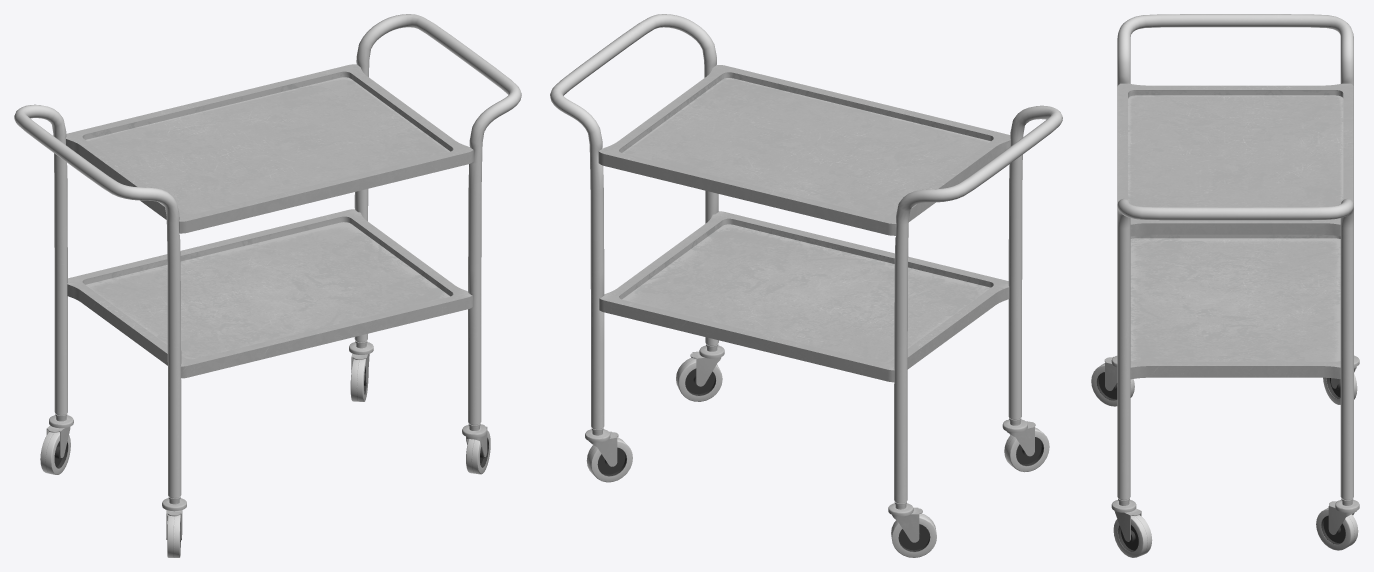
File: Old trolley.fbx
3 renders of one model, left to right at view 1: azimuth 30°, elevation 25°; view 2: azimuth 150°, elevation 25°; view 3: azimuth 270°, elevation 25°, orthographic. The views are drawn at different scales.
Visible parts, largest first — view 1: Trolley; view 2: Trolley; view 3: Trolley.
Boxes of the visible parts, <box> form: Trolley: <box>14,14,521,557</box>; Trolley: <box>550,14,1062,557</box>; Trolley: <box>1091,14,1359,557</box>.
Size of the model in its own units: 106 by 91.38 by 60.45.
Materials: 1 (1 with a texture image).
